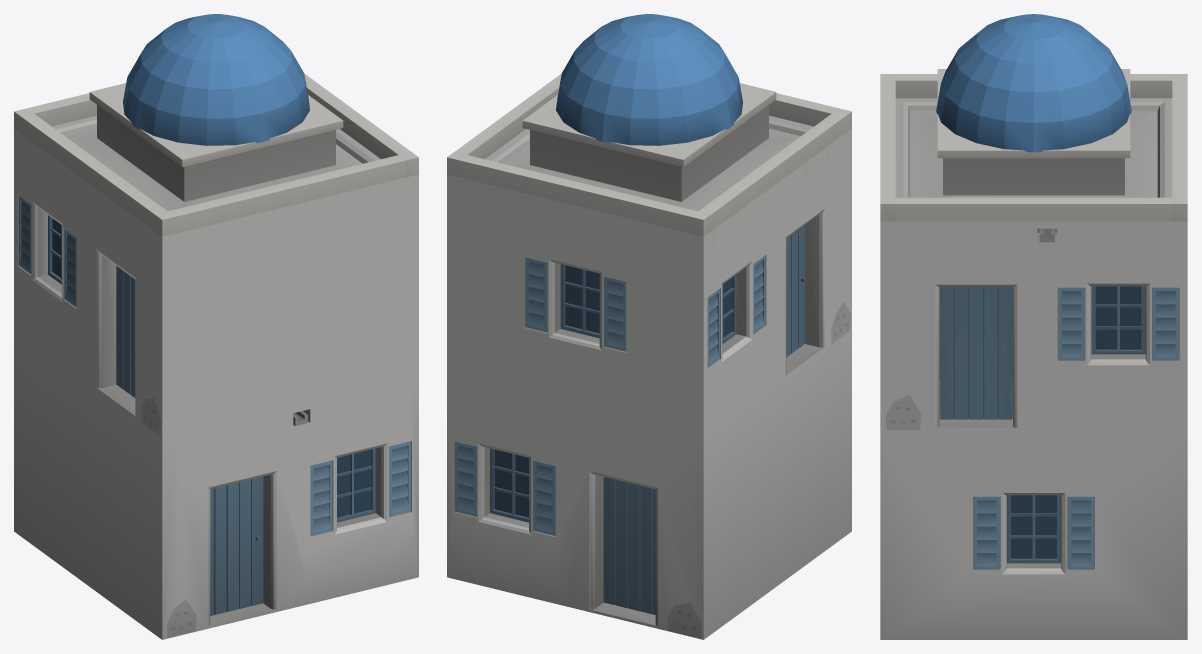
File: dome2.glb
3 renders of one model, left to right at view 1: azimuth 30°, elevation 25°; view 2: azimuth 150°, elevation 25°; view 3: azimuth 270°, elevation 25°, orthographic. The views are drawn at different scales.
Parts seen in each view (by area): view 1: dome2; view 2: dome2; view 3: dome2.
Part boxes in pixels (left/top/right/bottom): dome2: left=14, top=14, right=418, bottom=639; dome2: left=447, top=14, right=851, bottom=639; dome2: left=880, top=14, right=1187, bottom=639.
Bounding box in the file's own units: 4.4 × 8.72 × 4.4.
